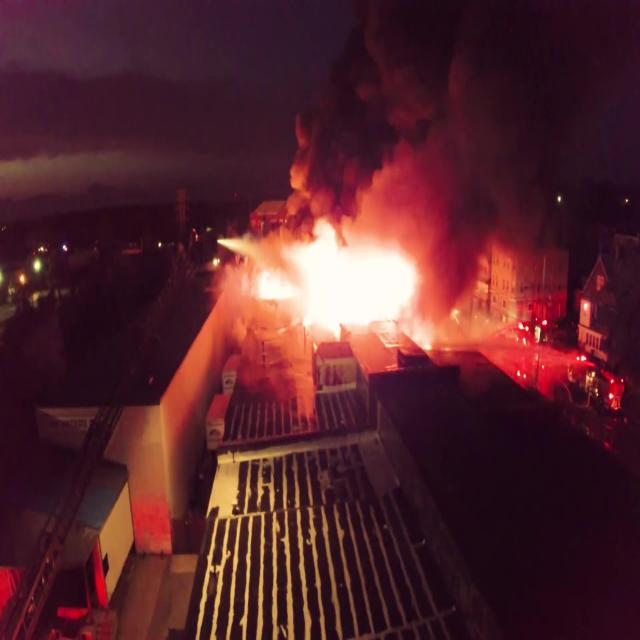Fire: (235, 194, 438, 346)
Smoke: (225, 1, 628, 338)
